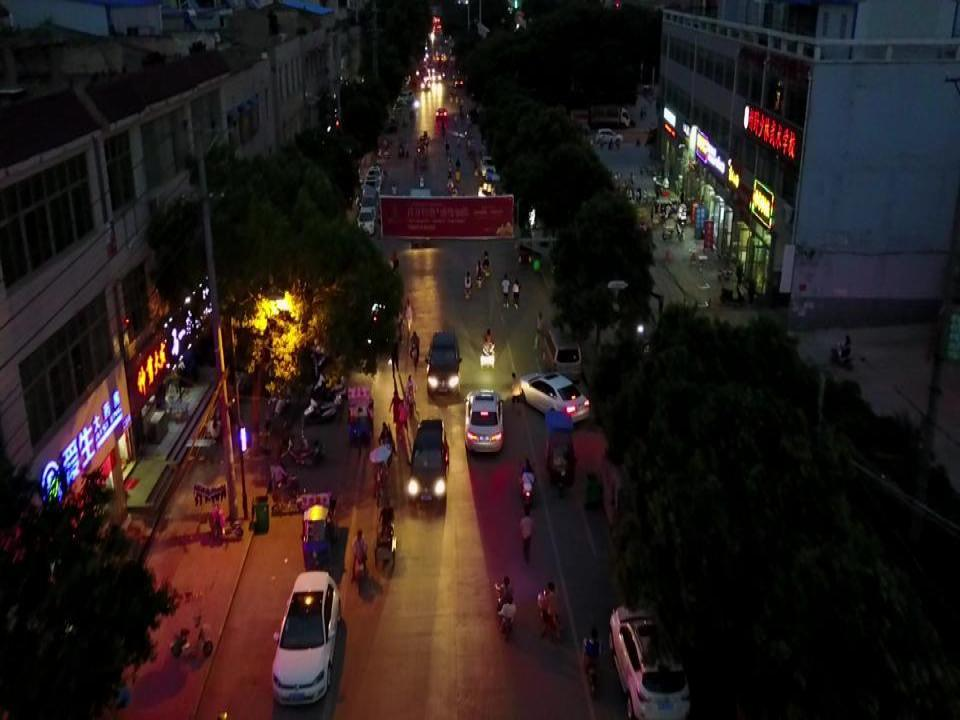car: (608, 601, 690, 720), (271, 570, 341, 706), (406, 417, 449, 508), (519, 371, 591, 424), (463, 388, 504, 453), (425, 328, 462, 396), (356, 207, 376, 236), (366, 164, 384, 188), (479, 155, 496, 177), (362, 175, 379, 197)
truck: (409, 188, 432, 247), (587, 106, 631, 130)
van: (544, 328, 582, 384), (359, 188, 380, 217)
